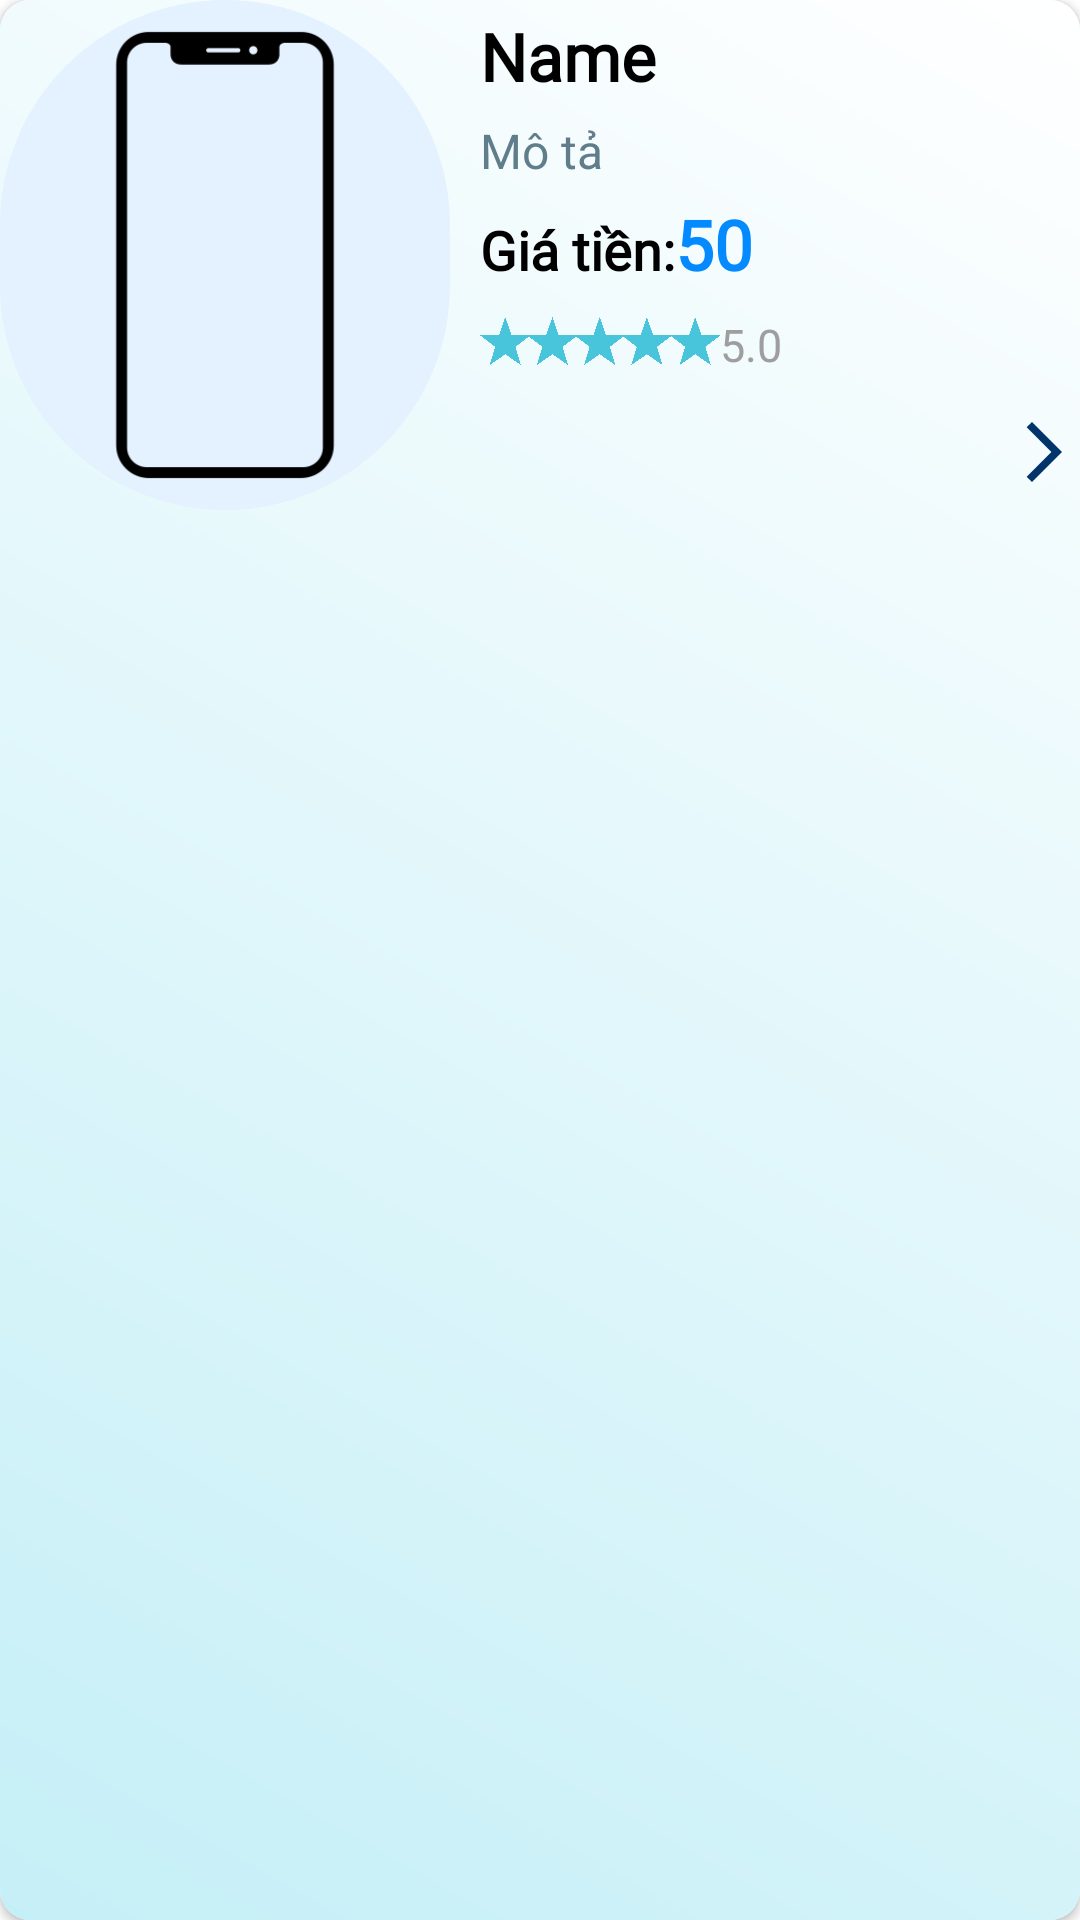

Icons on this 1080px x 1920px Android screen, each with the point to tap as point (x, y):
Mũi tên chuyển tiếp: point (1044, 452)
ratingbar: point (600, 341)
